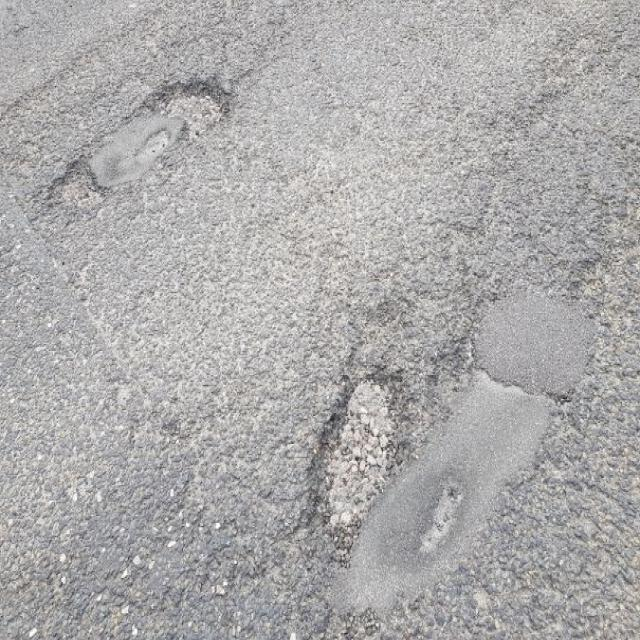Pothole: (44, 63, 235, 213), (293, 347, 419, 566)
